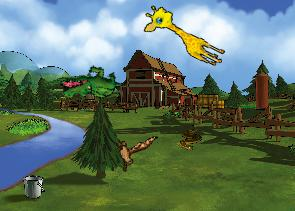crocodile: (57, 55, 126, 114)
eagle: (106, 121, 158, 179)
giraffe: (138, 1, 232, 69)
